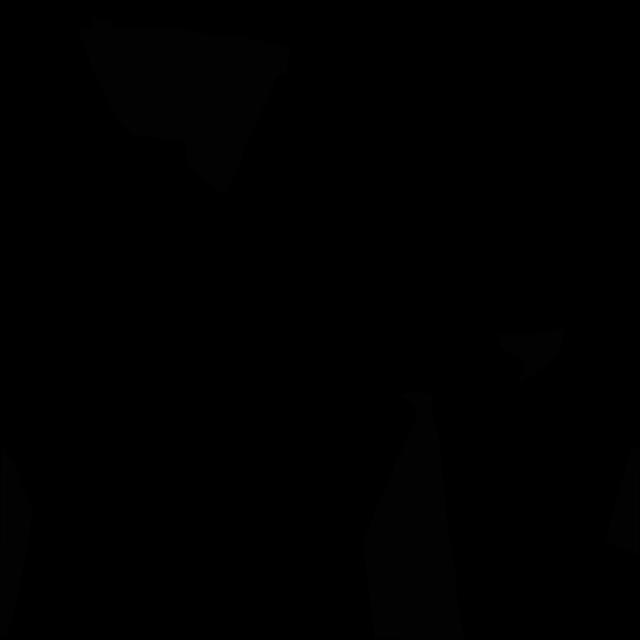cardboard: (76, 17, 290, 193), (362, 391, 464, 640), (0, 445, 32, 640), (498, 325, 565, 388), (604, 447, 640, 554)
